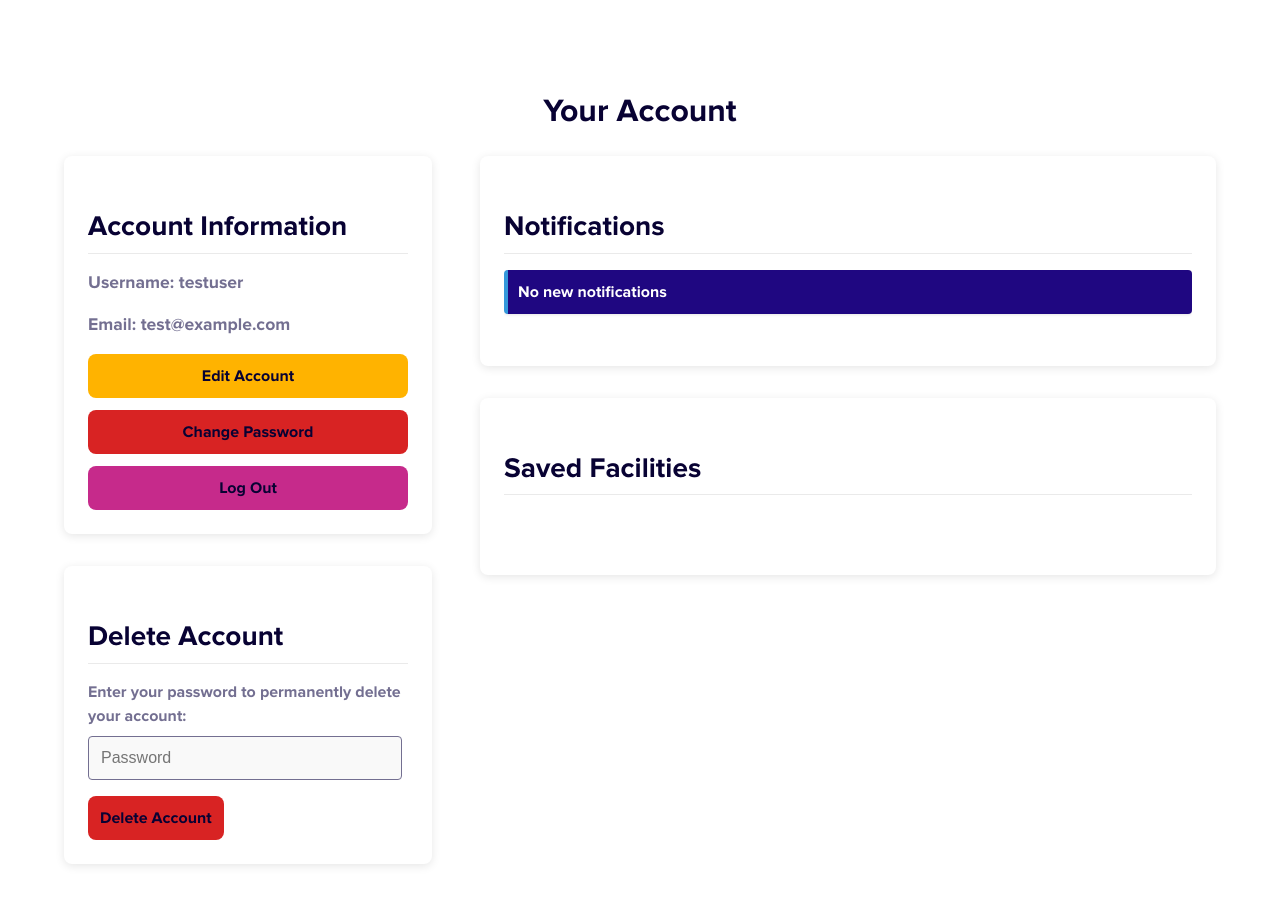
Test: Account Component › handles edit mode and updates user
Click the button "Edit Account": (248, 376) left=88, top=354, right=408, bottom=398
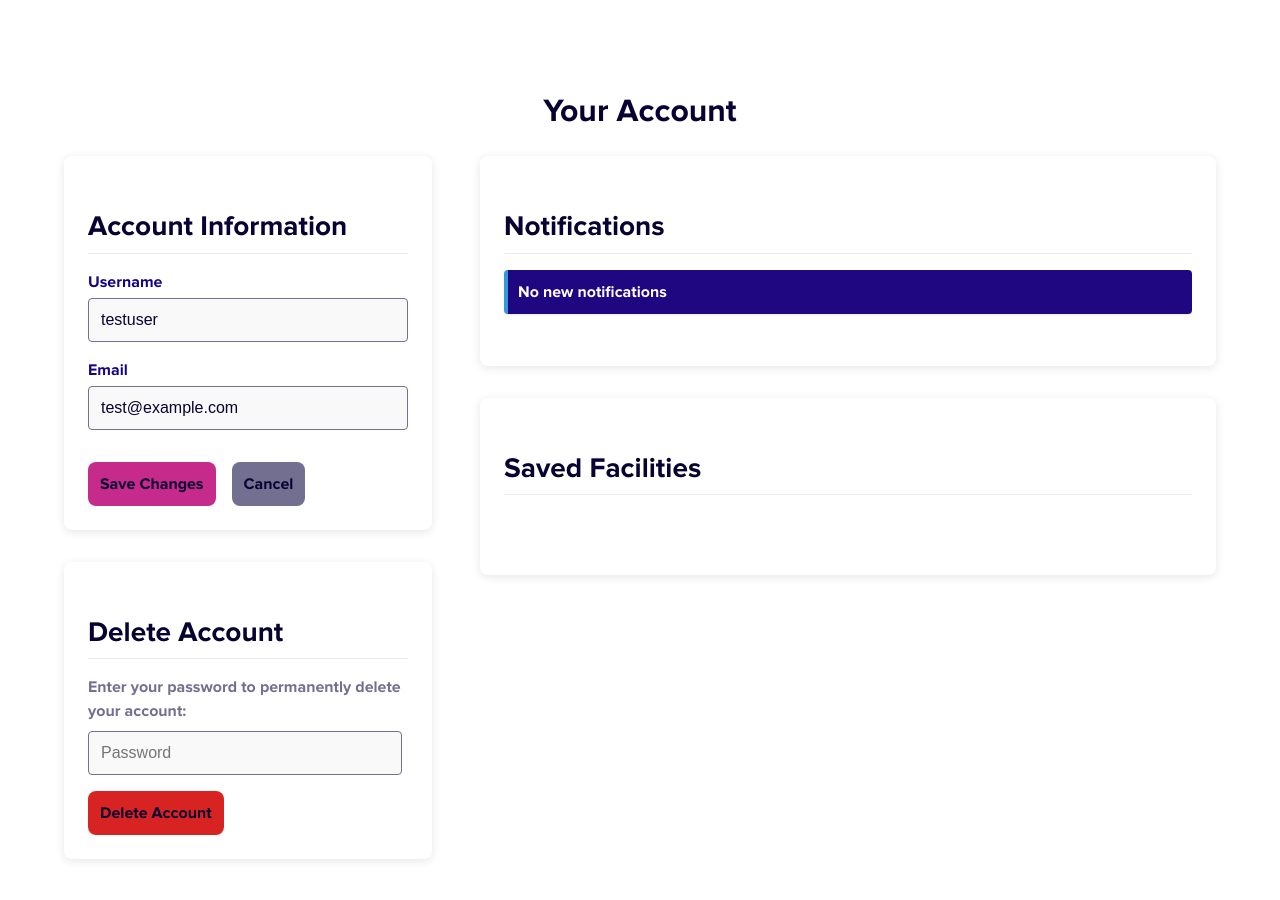
Now the field labelled "Username" holds "testuser"
Replace the text in the field labelled "Username" with "newuser": (248, 320) left=88, top=298, right=408, bottom=342
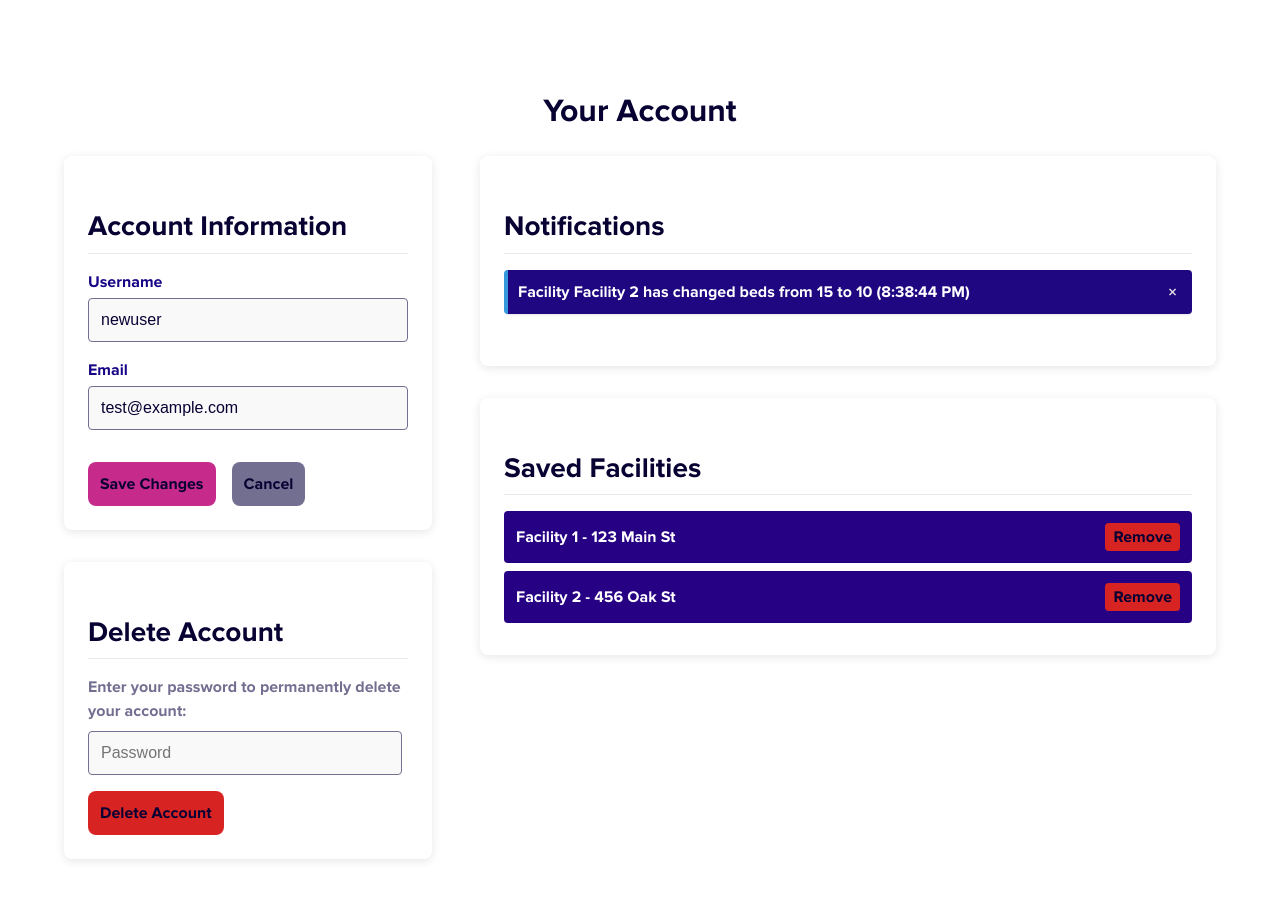
Click the button "Save Changes": (152, 484) left=88, top=462, right=216, bottom=506
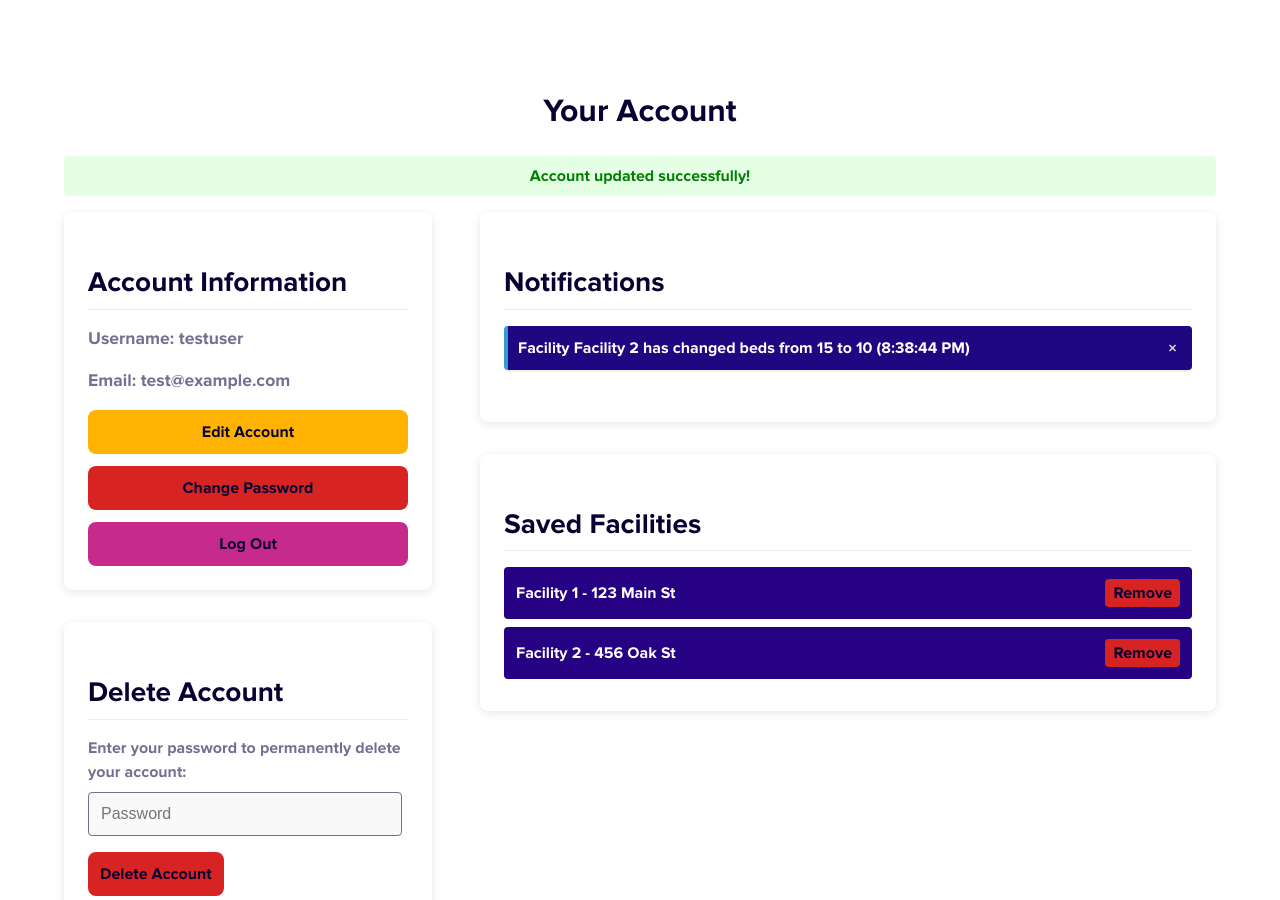
Now the text "Account updated successfully!" is shown, box left=64, top=156, right=1216, bottom=196
